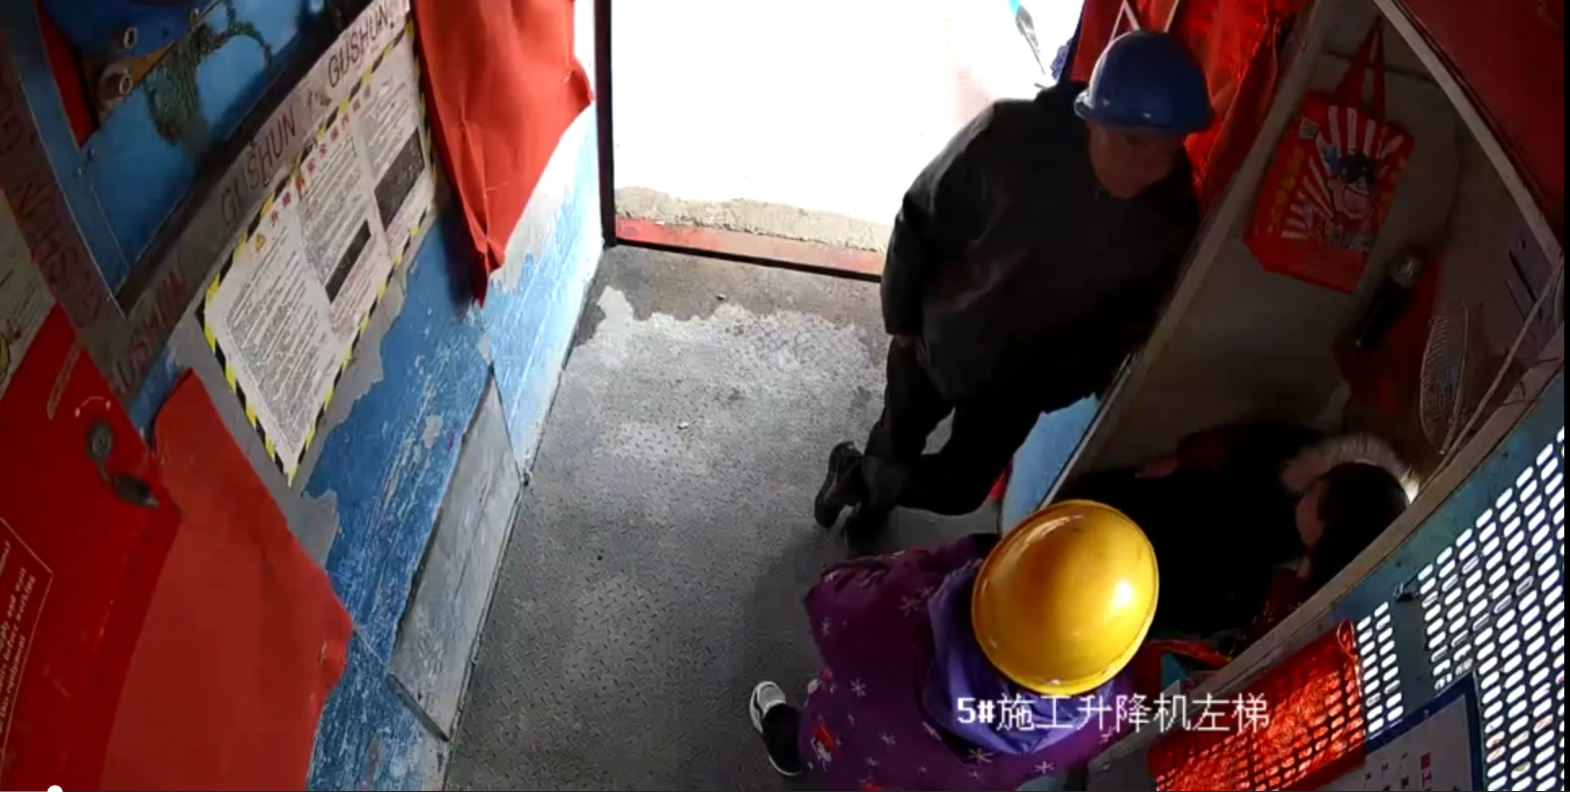person: (809, 28, 1226, 561), (743, 495, 1167, 786)
